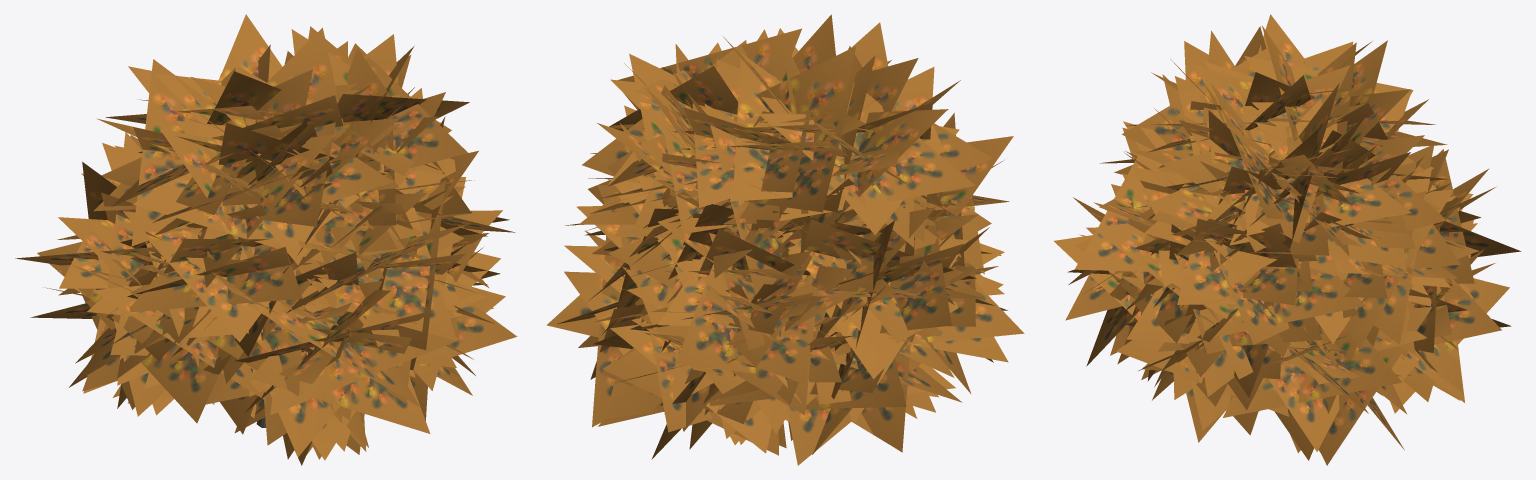
Rendered from Prunus_Armeniaca_Autumn_Young.glb.
3 renders of one model, left to right at view 1: azimuth 30°, elevation 25°; view 2: azimuth 150°, elevation 25°; view 3: azimuth 270°, elevation 25°, orthographic. The views are drawn at different scales.
Visible parts, largest first — view 1: Prunus_Armeniaca_Autumn_Young__LOD3; view 2: Prunus_Armeniaca_Autumn_Young__LOD3; view 3: Prunus_Armeniaca_Autumn_Young__LOD3.
Boxes of the visible parts, <box> form: Prunus_Armeniaca_Autumn_Young__LOD3: <box>15,14,517,465</box>; Prunus_Armeniaca_Autumn_Young__LOD3: <box>546,14,1024,465</box>; Prunus_Armeniaca_Autumn_Young__LOD3: <box>1054,14,1520,465</box>.
Size of the model in its own units: 6.63 by 5.4 by 6.64.
2 materials, 2 textured.
